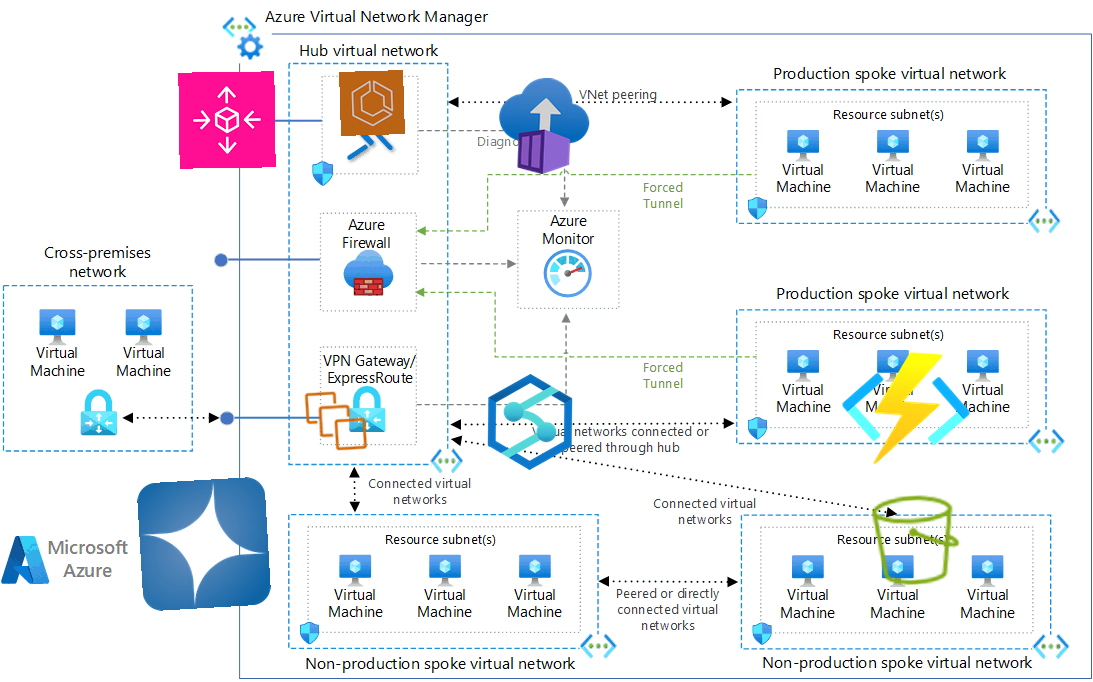aws_amazon_elastic_container_service: (339, 70, 405, 136)
aws_auto_scaling: (178, 71, 276, 169)
aws_ec2_instances: (302, 387, 370, 455)
aws_simple_storage_service_bucket: (865, 489, 967, 591)
azure_container_instances: (493, 75, 595, 177)
azure_function_apps: (837, 340, 975, 478)
azure_openai: (136, 476, 272, 612)
azure_synapse_analytics: (481, 373, 579, 471)
